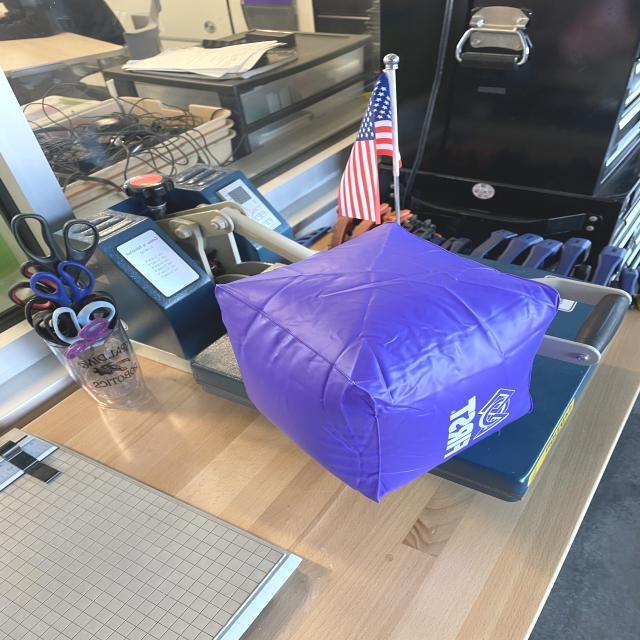frc_cube: (188, 216, 574, 506)
